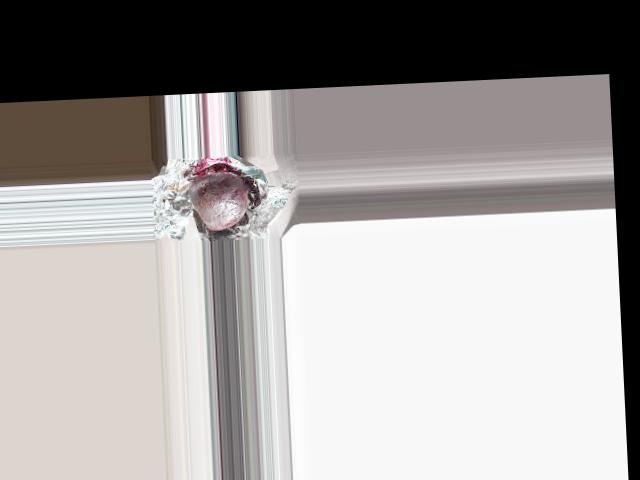beet: (187, 172, 250, 231)
